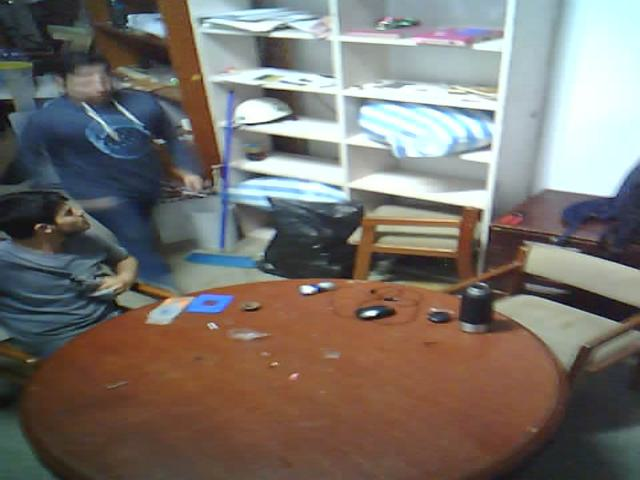person: (11, 42, 220, 188), (0, 173, 147, 371)
